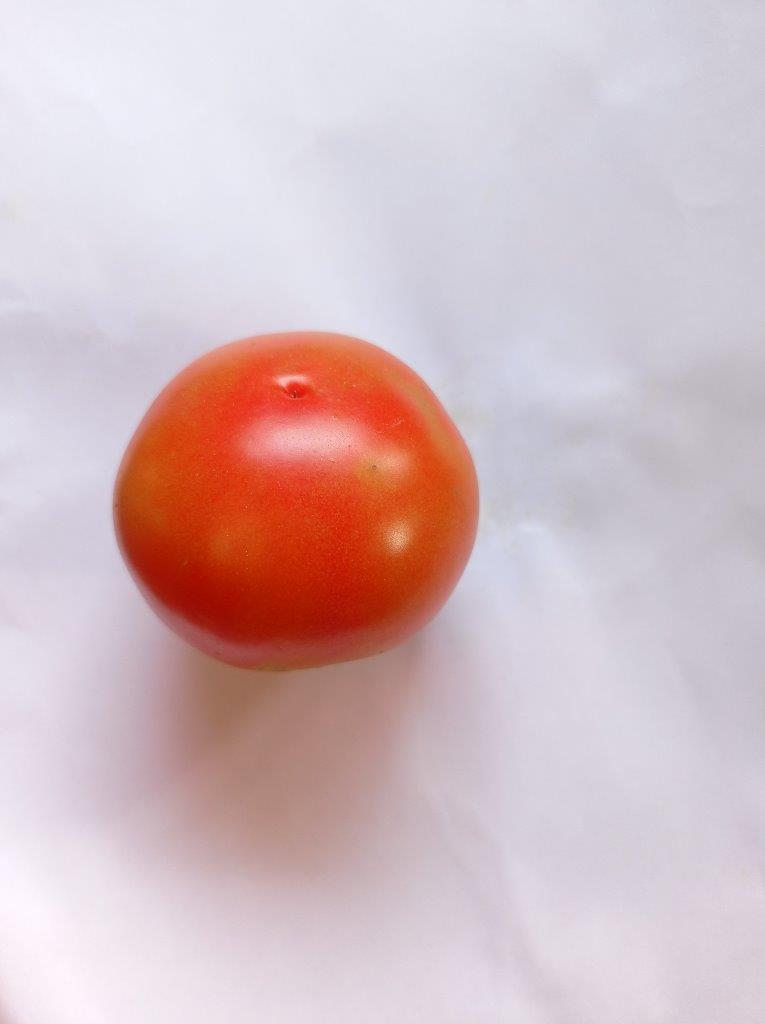tomato: (113, 333, 478, 668)
